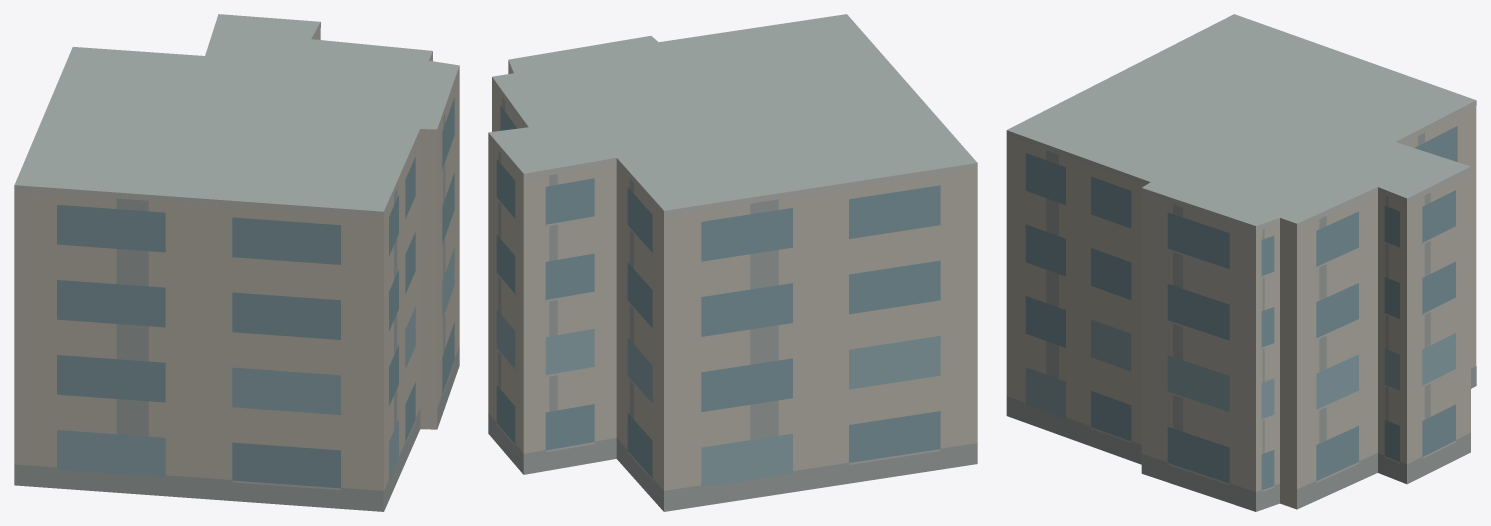
Rendered from survey-upis-32898609.glb.
3 views of the same model, side by side, from view 1: azimuth 30°, elevation 25°; view 2: azimuth 150°, elevation 25°; view 3: azimuth 270°, elevation 25° (orthographic). The views are drawn at different scales.
Parts seen in each view (by area): view 1: survey-upis-32898609.tmp; view 2: survey-upis-32898609.tmp; view 3: survey-upis-32898609.tmp.
Part boxes in pixels (<box>): survey-upis-32898609.tmp: <box>14,14,459,511</box>; survey-upis-32898609.tmp: <box>488,14,977,511</box>; survey-upis-32898609.tmp: <box>1006,14,1476,511</box>.
Bounding box in the file's own units: 19.43 × 12.2 × 18.18.
